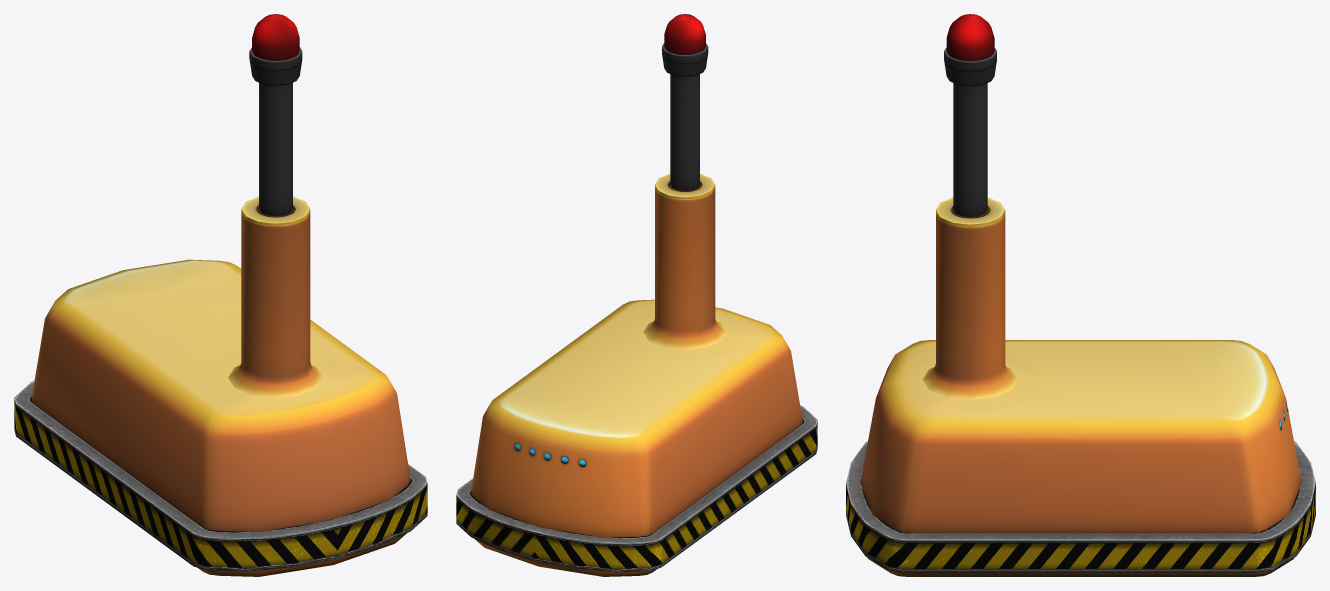
The model's file is warehouse_robot.glb.
The picture shows the model from 3 angles, left to right: view 1: azimuth 30°, elevation 25°; view 2: azimuth 150°, elevation 25°; view 3: azimuth 270°, elevation 25°; orthographic projection. The views are drawn at different scales.
Parts seen in each view (by area): view 1: Box002; view 2: Box002; view 3: Box002.
Part boxes in pixels (box(x1,y1,x2,y2)): Box002: box(14, 14, 427, 576); Box002: box(456, 14, 817, 576); Box002: box(846, 14, 1315, 576).
Bounding box in the file's own units: 0.6727 × 1.41 × 1.17.
1 material, 1 textured.
